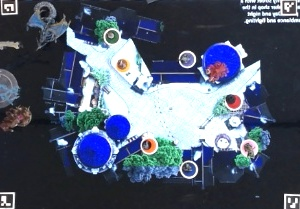blue: (180, 157, 200, 179)
green: (104, 26, 121, 47)
orange: (136, 136, 162, 156)
pink: (239, 137, 261, 161)
red: (225, 92, 245, 112)
violet: (177, 48, 199, 69)
yellow: (111, 56, 133, 74)
